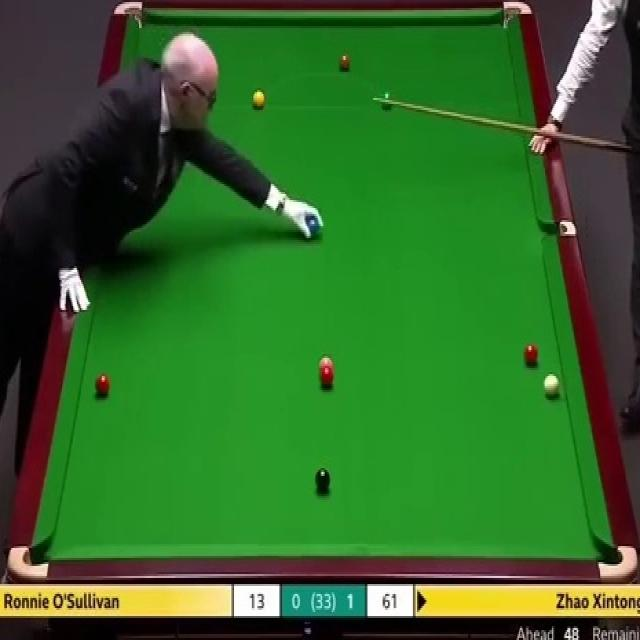black-ball: (314, 468, 332, 494)
blue-ball: (306, 216, 318, 236)
brown-ball: (338, 52, 351, 72)
green-ball: (380, 89, 393, 110)
pink-ball: (318, 356, 334, 370)
red-ball: (521, 342, 539, 368), (95, 372, 111, 398), (318, 367, 335, 388)
white-ball: (542, 374, 558, 399)
yellow-ball: (253, 90, 265, 110)
